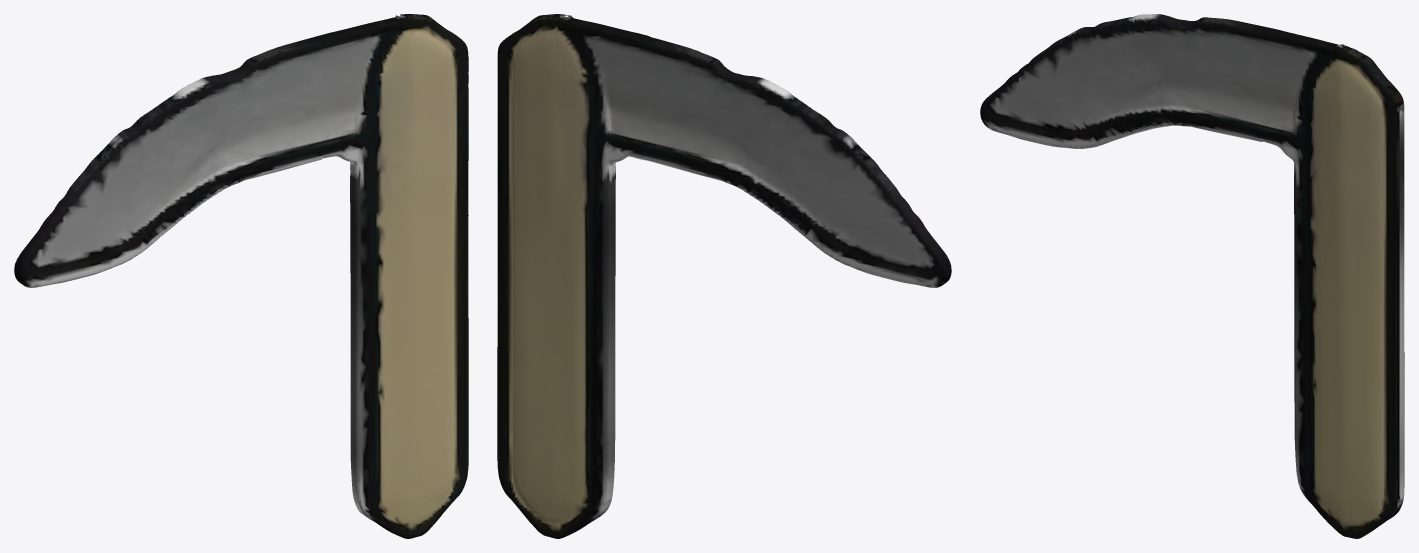
The model's file is kama_2.glb.
3 views of the same model, side by side, from view 1: azimuth 30°, elevation 25°; view 2: azimuth 150°, elevation 25°; view 3: azimuth 330°, elevation 25° (orthographic). The views are drawn at different scales.
Parts seen in each view (by area): view 1: geometry_0; view 2: geometry_0; view 3: geometry_0.
Boxes of the visible parts, x1,y1,x2,y2 form: geometry_0: (14,14,468,538); geometry_0: (497,14,951,538); geometry_0: (980,14,1404,538).
Size of the model in its own units: 0.7812 by 0.869 by 0.0397.
